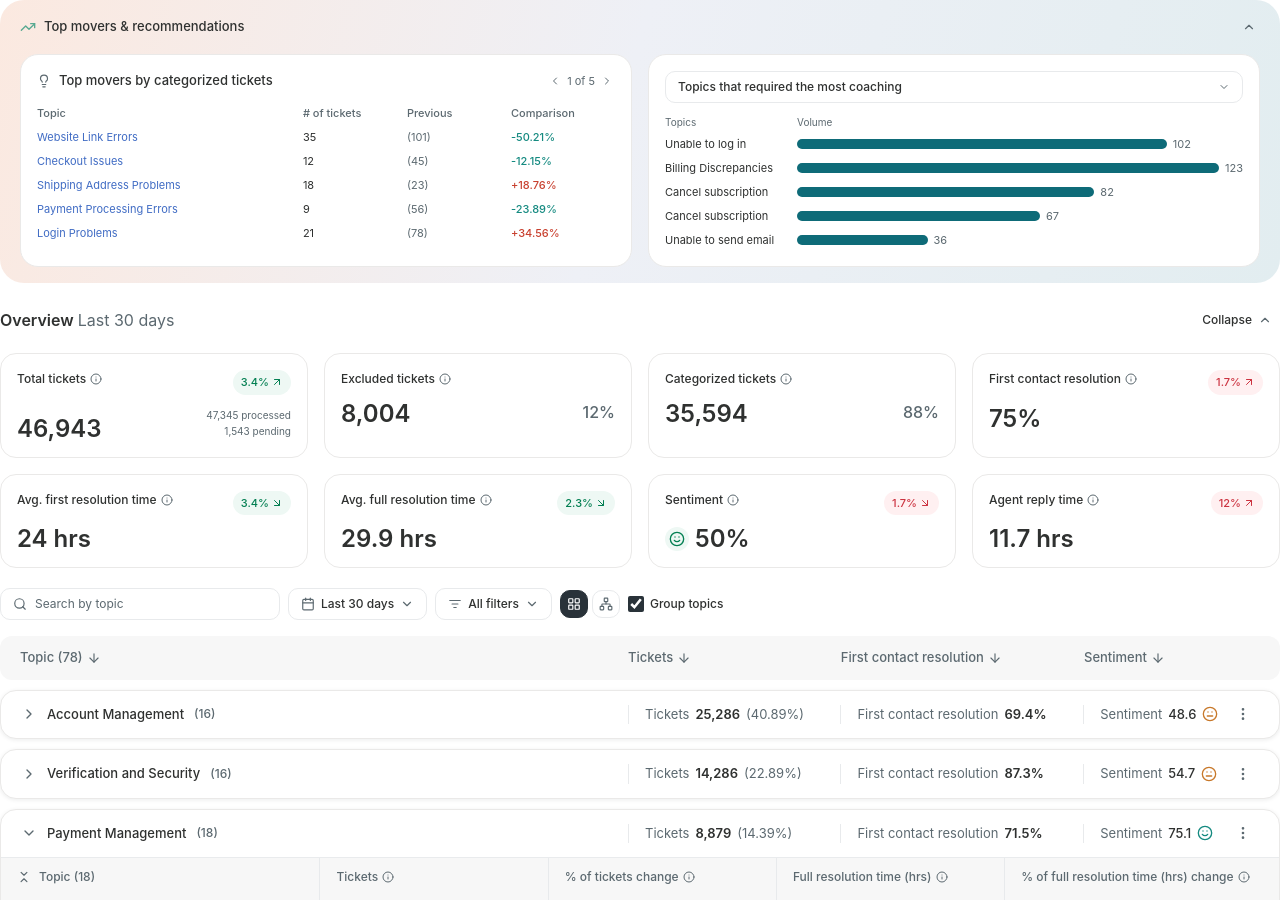
Test case: TopicsView › expands a top-level topic row to reveal its nested sub-rows
Expected: the text "Common requests" is not shown
Click the button "Account Management (16)" at (116, 714), box left=21, top=704, right=628, bottom=724
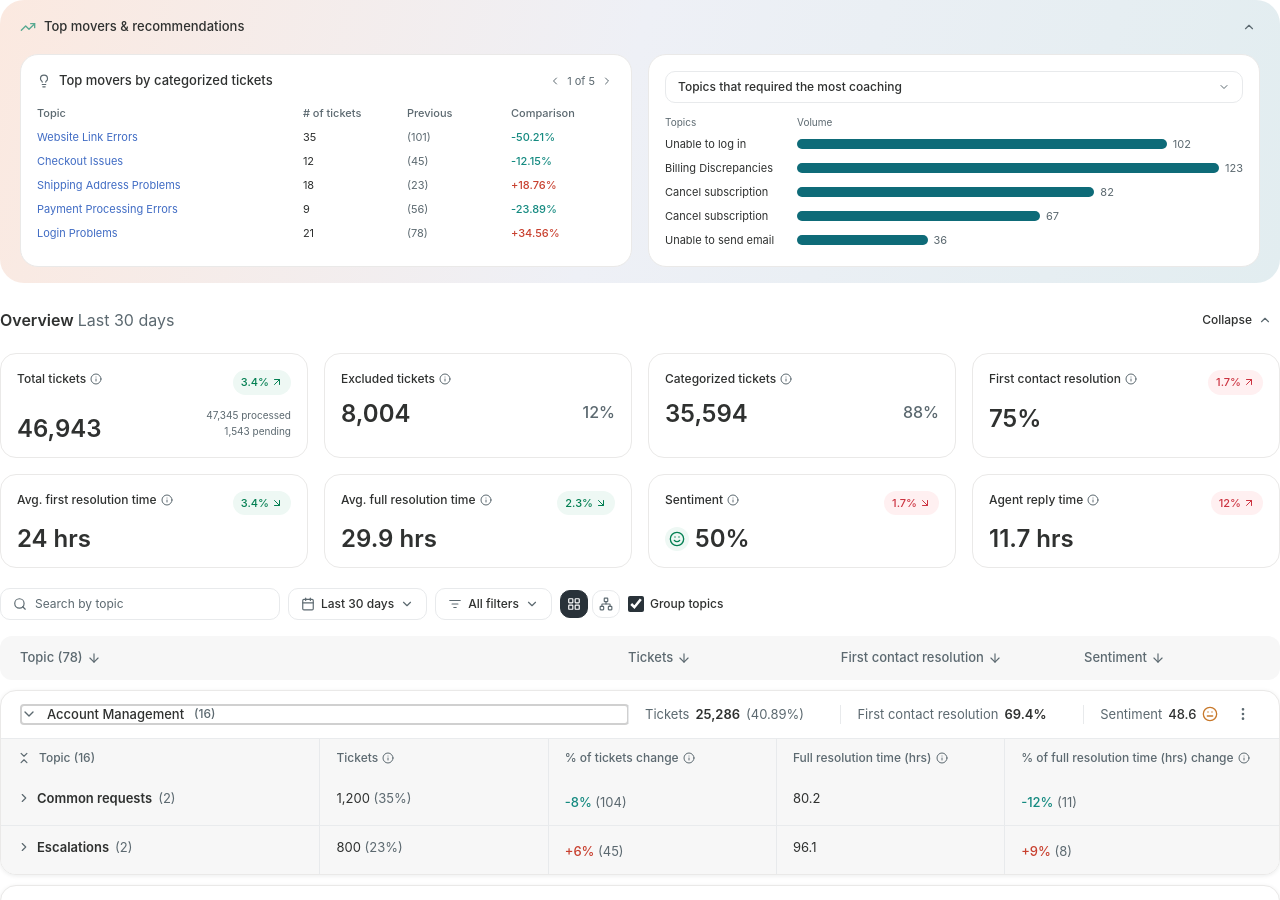
Expected: the button "Common requests (2)" is shown, left=17, top=789, right=176, bottom=807
